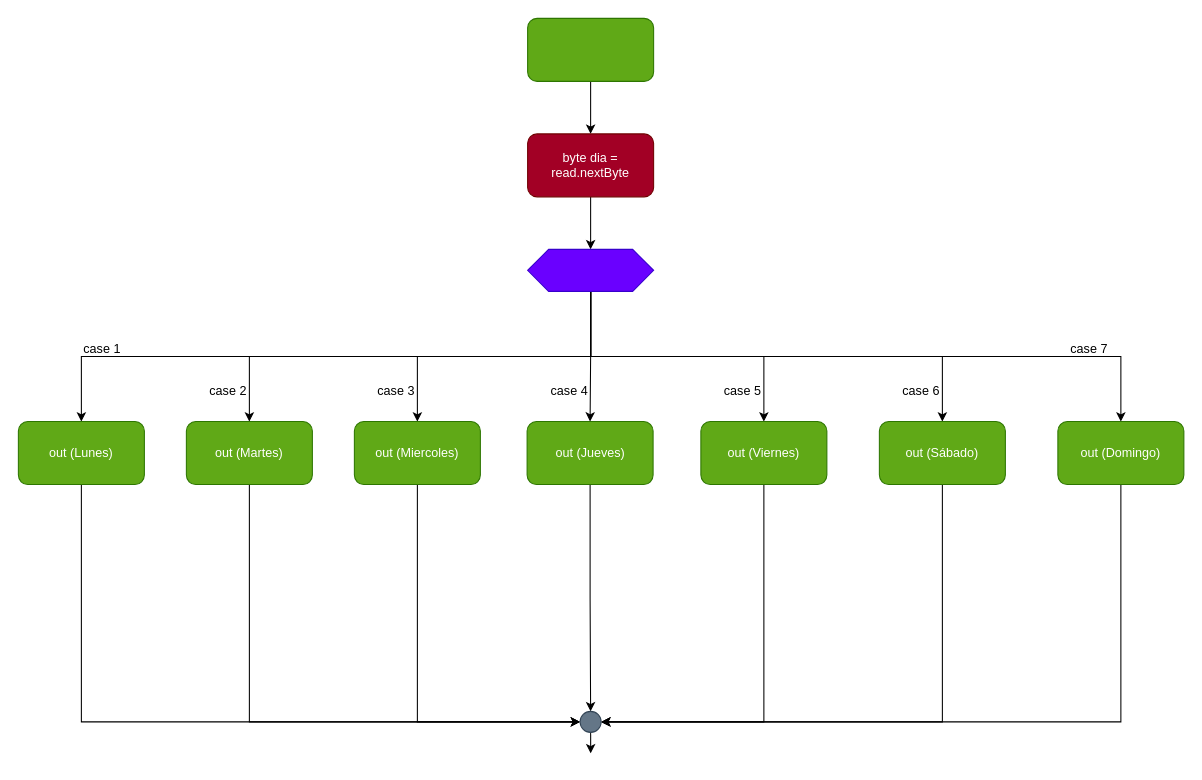
Image size: 1202x780. Some labels were removed from this diagram. The centre of each missing label's shape, as x and y in pixels:
out ("Introduce un numero del 1 al 7"): (x=590, y=49)
switch dia: (x=590, y=269)
